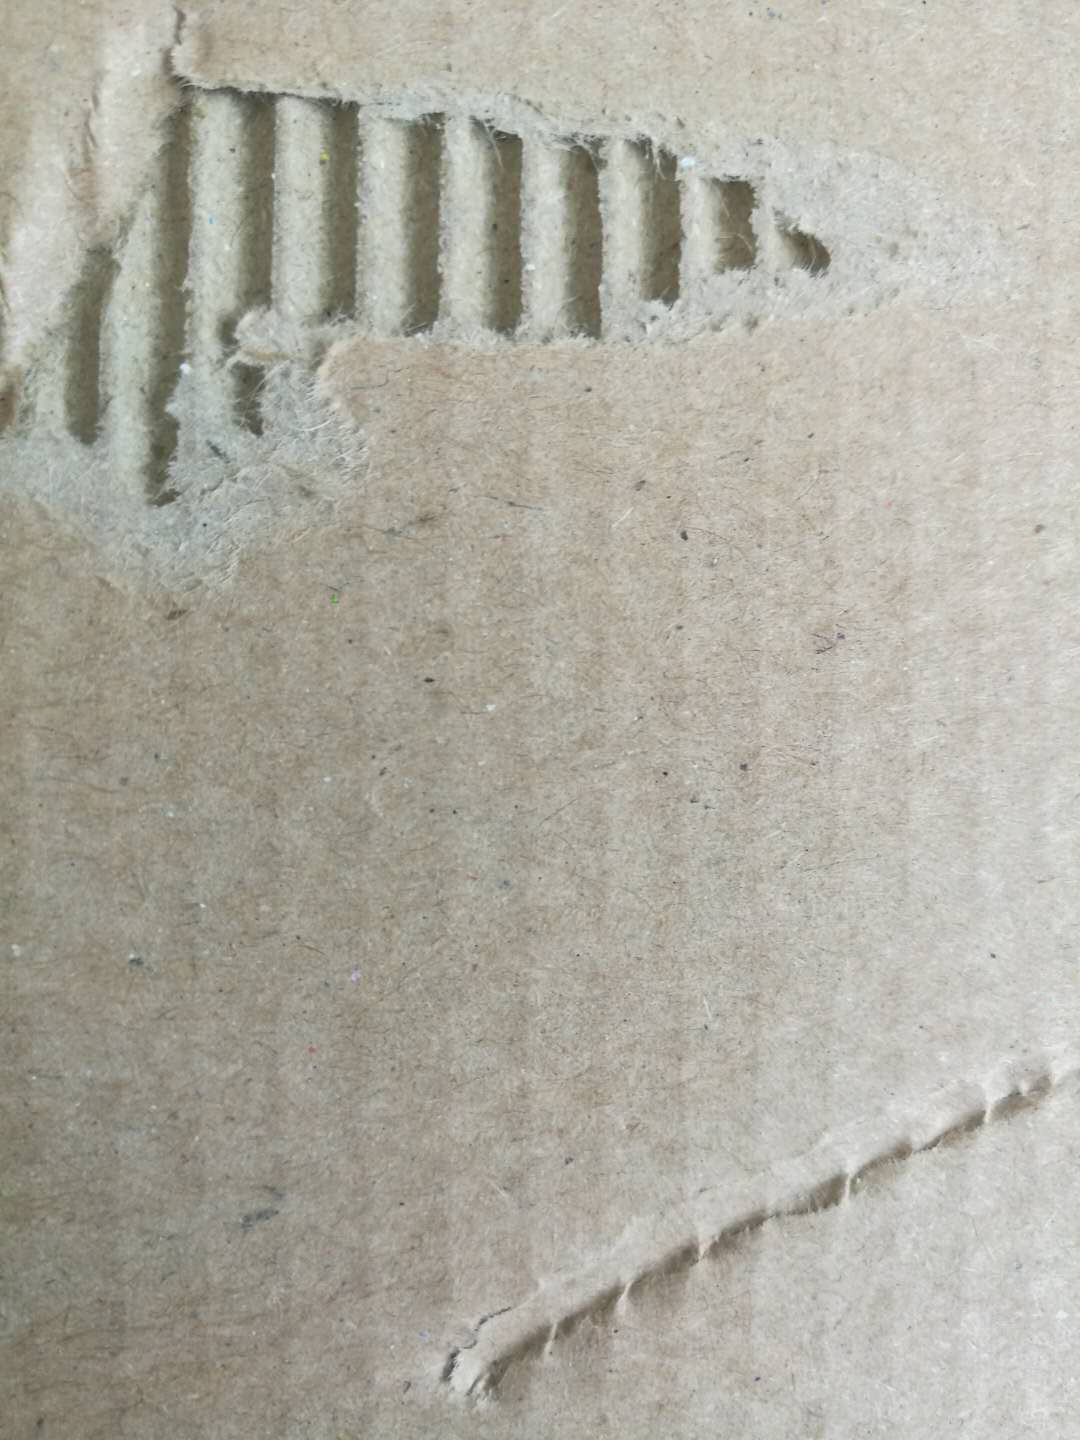defect: (2, 1, 1063, 615), (395, 996, 1080, 1429)
